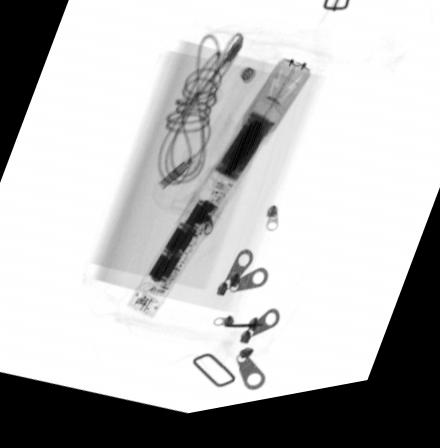Baton: (123, 67, 314, 325)
